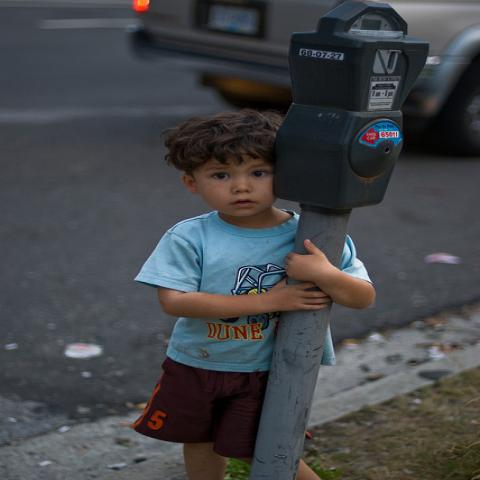car: (130, 0, 479, 158)
